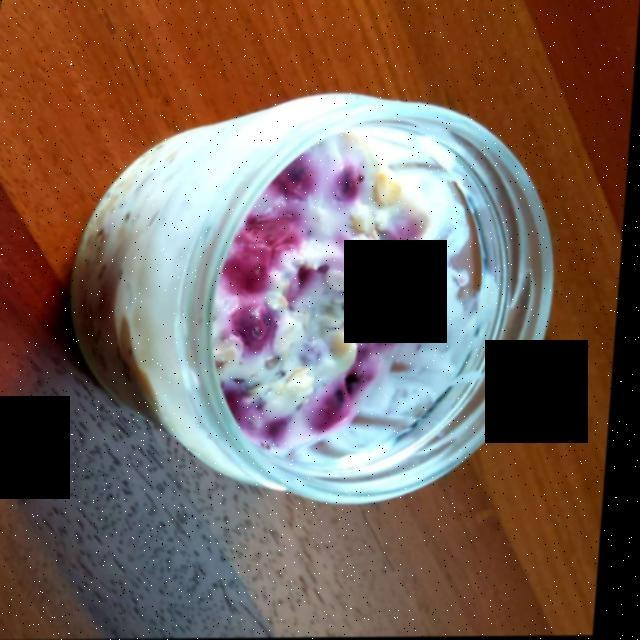berries: (220, 179, 415, 431)
yogurt: (75, 101, 469, 444)
